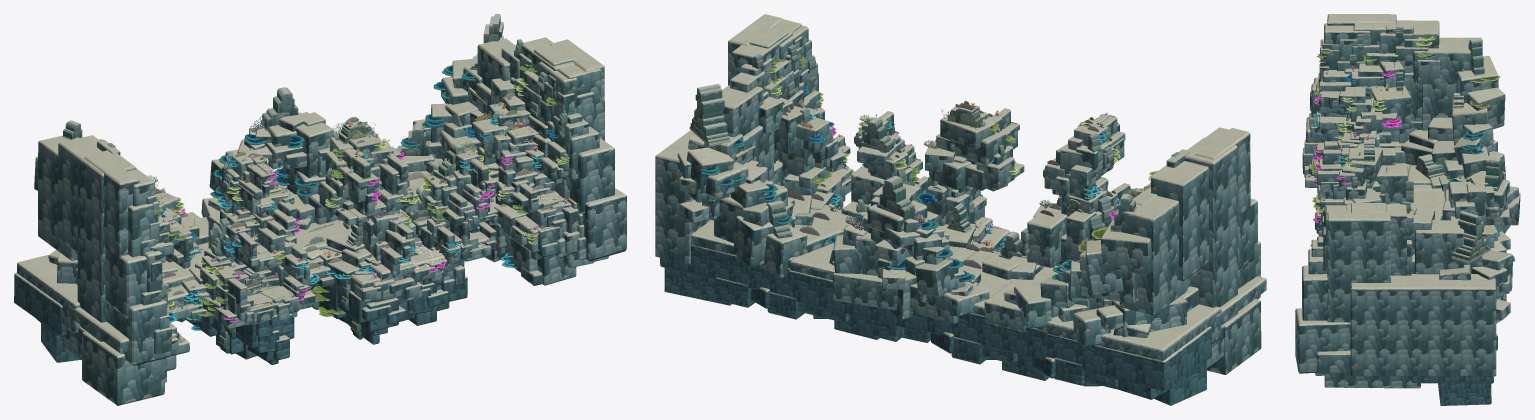
3 renders of one model, left to right at view 1: azimuth 30°, elevation 25°; view 2: azimuth 150°, elevation 25°; view 3: azimuth 270°, elevation 25°, orthographic. The views are drawn at different scales.
Bounding box in the file's own units: 147 × 62.22 × 64.86.
Materials: 26 (26 with a texture image).
